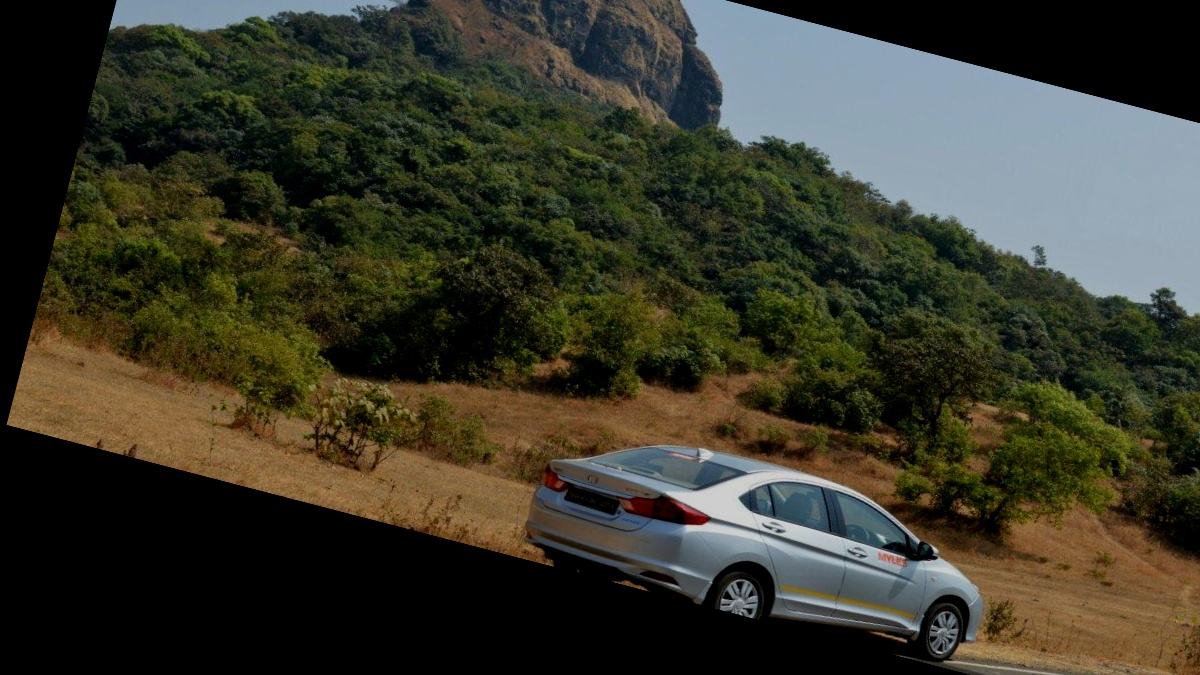car: (456, 354, 1033, 675)
